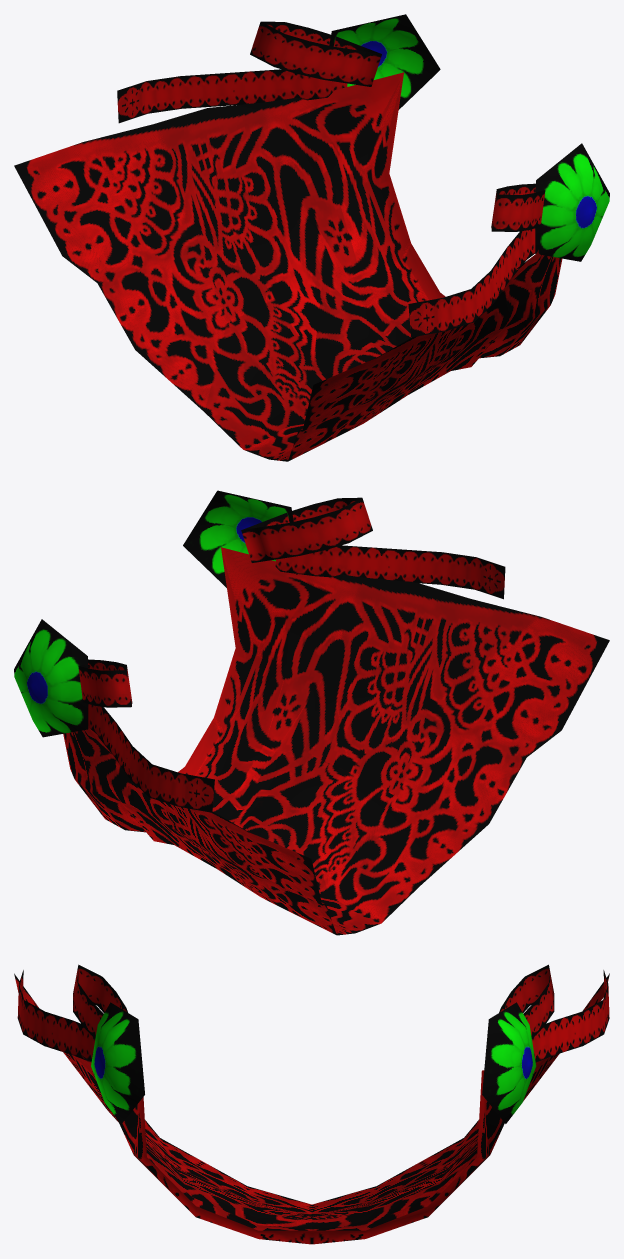
3 renders of one model, top to bottom at view 1: azimuth 30°, elevation 25°; view 2: azimuth 150°, elevation 25°; view 3: azimuth 270°, elevation 25°, orthographic.
Visible parts, largest first — view 1: M1265; view 2: M1265; view 3: M1265.
Part boxes in pixels (left/top/right/bottom): M1265: left=14, top=14, right=609, bottom=461; M1265: left=14, top=490, right=609, bottom=935; M1265: left=14, top=964, right=609, bottom=1244.
Size of the model in its own units: 0.5012 by 0.4083 by 0.717.
